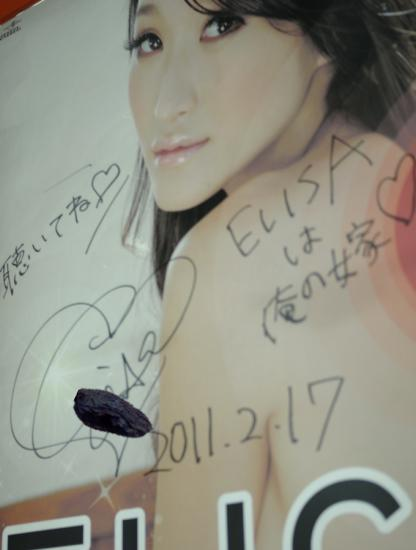Dates: (71, 374, 155, 458)
